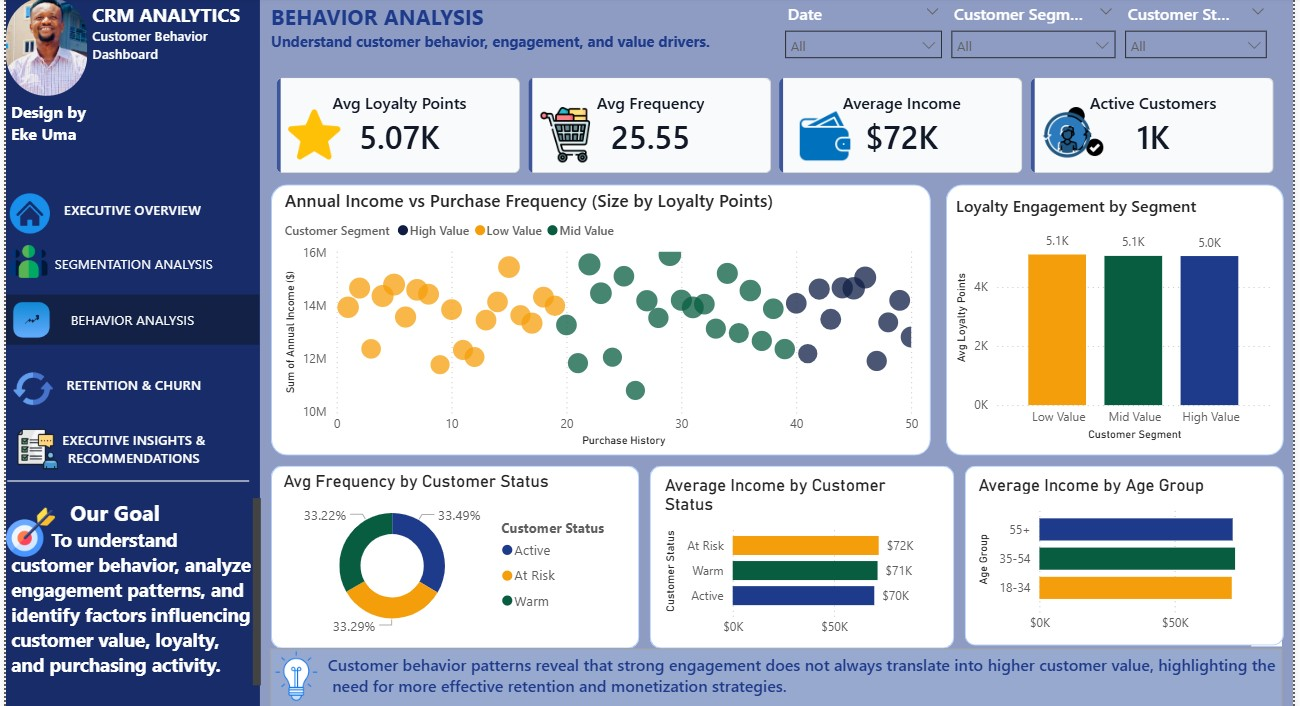

What the dashboard file says about the page in this screenshot:
{"tool":"powerbi","page":{"name":" BEHAVIOR ANALYSIS","canvas":[1280,720],"ordinal":2},"visuals":[{"type":"shape","box":[264,186.1,656.5,269.8],"z":0},{"type":"cardVisual","fields":{"Data":["Customer Intelligence & Segmentation Analytics - Customer Intelligence & Segment.Avg Loyalty Points","Customer Intelligence & Segmentation Analytics - Customer Intelligence & Segment.Avg Frequency","Customer Intelligence & Segmentation Analytics - Customer Intelligence & Segment.Average Income","Customer Intelligence & Segmentation Analytics - Customer Intelligence & Segment.Active Customers"]},"box":[252.5,63.5,1027.2,129.8],"z":1000},{"type":"shape","box":[0,0,252.5,719.9],"z":2000},{"type":"textbox","box":[258.3,0,457.4,63.5],"z":3000},{"type":"slicer","fields":{"Values":["Customer Intelligence & Segmentation Analytics - Customer Intelligence & Segment.Last Purchase Date"]},"box":[764.7,0,176,63.5],"z":4000},{"type":"slicer","fields":{"Values":["Customer Intelligence & Segmentation Analytics - Customer Intelligence & Segment.Customer Segment"]},"box":[930.6,0,183.2,63.5],"z":5000},{"type":"slicer","fields":{"Values":["Customer Intelligence & Segmentation Analytics - Customer Intelligence & Segment.Customer Status"]},"box":[1103.7,0,161.6,69.3],"z":6000},{"type":"textbox","box":[0,98.1,106.8,60.6],"z":7000},{"type":"image","box":[0,0,80.8,98.1],"z":8000},{"type":"textbox","box":[80.8,0,177.5,80.8],"z":9000},{"type":"textbox","box":[0,493.4,258.3,209.2],"z":10000},{"type":"shape","box":[934.9,186.1,336.2,269.8],"z":11000},{"type":"shape","box":[264,466,366.5,181.8],"z":12000},{"type":"textbox","box":[262.6,647.8,1007,72.1],"z":13000},{"type":"image","box":[264,647.8,50.5,54.8],"z":14000},{"type":"image","box":[0,505,49.1,54.8],"z":15000},{"type":"scatterChart","title":"Annual Income vs Purchase Frequency (Size by Loyalty Points)","fields":{"Series":["Customer Intelligence & Segmentation Analytics - Customer Intelligence & Segment.Customer Segment"],"Size":["Sum(Customer Intelligence & Segmentation Analytics - Customer Intelligence & Segment.Loyalty Points)"],"X":["Customer Intelligence & Segmentation Analytics - Customer Intelligence & Segment.Purchase History"],"Y":["Sum(Customer Intelligence & Segmentation Analytics - Customer Intelligence & Segment.Annual Income ($))"]},"box":[272.7,190.4,640.6,262.6],"z":16000},{"type":"clusteredColumnChart","title":"Loyalty Engagement by Segment","fields":{"Category":["Customer Intelligence & Segmentation Analytics - Customer Intelligence & Segment.Customer Segment"],"Y":["Customer Intelligence & Segmentation Analytics - Customer Intelligence & Segment.Avg Loyalty Points"]},"box":[940.7,196.2,324.6,249.6],"z":17000},{"type":"shape","box":[640.6,466,303,181.8],"z":18000},{"type":"donutChart","fields":{"Category":["Customer Intelligence & Segmentation Analytics - Customer Intelligence & Segment.Customer Status"],"Y":["Customer Intelligence & Segmentation Analytics - Customer Intelligence & Segment.Avg Frequency"]},"box":[271.2,471.8,337.6,170.2],"z":19000},{"type":"barChart","fields":{"Category":["Customer Intelligence & Segmentation Analytics - Customer Intelligence & Segment.Customer Status"],"Y":["Customer Intelligence & Segmentation Analytics - Customer Intelligence & Segment.Average Income"]},"box":[650.7,474.7,279.9,170.2],"z":20000},{"type":"image","box":[271.2,111.1,70.7,51.9],"z":21000},{"type":"image","box":[503.5,109.6,105.3,54.8],"z":22000},{"type":"image","box":[777.6,109.6,75,57.7],"z":23000},{"type":"image","box":[1037.3,109.6,66.4,49.1],"z":24000},{"type":"shape","box":[953.7,466,317.4,178.9],"z":25000},{"type":"barChart","fields":{"Category":["Customer Intelligence & Segmentation Analytics - Customer Intelligence & Segment.Age Group"],"Y":["Customer Intelligence & Segmentation Analytics - Customer Intelligence & Segment.Average Income"]},"box":[962.3,474.7,300.1,165.9],"z":26000},{"type":"pageNavigator","box":[0,295.8,252.5,50.5],"z":27000},{"type":"image","box":[1022.6,108.3,69.3,56.3],"z":28000},{"type":"pageNavigator","box":[0,186.1,252.5,50.5],"z":29000},{"type":"pageNavigator","box":[1.4,239.5,252.5,50.5],"z":30000},{"type":"pageNavigator","box":[1.4,360.7,252.5,50.5],"z":31000},{"type":"pageNavigator","box":[1.4,424.2,252.5,50.5],"z":32000},{"type":"shape","box":[1.4,474.7,240.9,13],"z":33000},{"type":"image","box":[4.3,186.1,40.4,57.7],"z":34000},{"type":"image","box":[4.3,295.8,41.8,50.5],"z":35000},{"type":"image","box":[7.2,295.8,39,50.5],"z":36000},{"type":"image","box":[4.3,236.6,37.5,53.4],"z":37000},{"type":"image","box":[7.2,367.9,39,43.3],"z":38000},{"type":"image","box":[10.1,418.4,43.3,63.5],"z":39000}]}

Visuals, with their boxes on the page's 1280x720 design canvas (x1, y1, x2, y2). These are canvas units, not pixel positions in the 1300x706 screenshot, which may show the page scaled, cropped or inside an application window:
shape: (left=264, top=186, right=920, bottom=456)
cardVisual - Customer Intelligence & Segmentation Analytics - Customer Intelligence & Segment.Avg Loyalty Points x Customer Intelligence & Segmentation Analytics - Customer Intelligence & Segment.Avg Frequency: (left=252, top=64, right=1280, bottom=193)
shape: (left=0, top=0, right=252, bottom=720)
textbox: (left=258, top=0, right=716, bottom=64)
slicer - Customer Intelligence & Segmentation Analytics - Customer Intelligence & Segment.Last Purchase Date: (left=765, top=0, right=941, bottom=64)
slicer - Customer Intelligence & Segmentation Analytics - Customer Intelligence & Segment.Customer Segment: (left=931, top=0, right=1114, bottom=64)
slicer - Customer Intelligence & Segmentation Analytics - Customer Intelligence & Segment.Customer Status: (left=1104, top=0, right=1265, bottom=69)
textbox: (left=0, top=98, right=107, bottom=159)
image: (left=0, top=0, right=81, bottom=98)
textbox: (left=81, top=0, right=258, bottom=81)
textbox: (left=0, top=493, right=258, bottom=703)
shape: (left=935, top=186, right=1271, bottom=456)
shape: (left=264, top=466, right=630, bottom=648)
textbox: (left=263, top=648, right=1270, bottom=720)
image: (left=264, top=648, right=314, bottom=703)
image: (left=0, top=505, right=49, bottom=560)
"Annual Income vs Purchase Frequency (Size by Loyalty Points)" scatterChart: (left=273, top=190, right=913, bottom=453)
"Loyalty Engagement by Segment" clusteredColumnChart: (left=941, top=196, right=1265, bottom=446)
shape: (left=641, top=466, right=944, bottom=648)
donutChart - Customer Intelligence & Segmentation Analytics - Customer Intelligence & Segment.Customer Status x Customer Intelligence & Segmentation Analytics - Customer Intelligence & Segment.Avg Frequency: (left=271, top=472, right=609, bottom=642)
barChart - Customer Intelligence & Segmentation Analytics - Customer Intelligence & Segment.Customer Status x Customer Intelligence & Segmentation Analytics - Customer Intelligence & Segment.Average Income: (left=651, top=475, right=931, bottom=645)
image: (left=271, top=111, right=342, bottom=163)
image: (left=504, top=110, right=609, bottom=164)
image: (left=778, top=110, right=853, bottom=167)
image: (left=1037, top=110, right=1104, bottom=159)
shape: (left=954, top=466, right=1271, bottom=645)
barChart - Customer Intelligence & Segmentation Analytics - Customer Intelligence & Segment.Age Group x Customer Intelligence & Segmentation Analytics - Customer Intelligence & Segment.Average Income: (left=962, top=475, right=1262, bottom=641)
pageNavigator: (left=0, top=296, right=252, bottom=346)
image: (left=1023, top=108, right=1092, bottom=165)
pageNavigator: (left=0, top=186, right=252, bottom=237)
pageNavigator: (left=1, top=240, right=254, bottom=290)
pageNavigator: (left=1, top=361, right=254, bottom=411)
pageNavigator: (left=1, top=424, right=254, bottom=475)
shape: (left=1, top=475, right=242, bottom=488)
image: (left=4, top=186, right=45, bottom=244)
image: (left=4, top=296, right=46, bottom=346)
image: (left=7, top=296, right=46, bottom=346)
image: (left=4, top=237, right=42, bottom=290)
image: (left=7, top=368, right=46, bottom=411)
image: (left=10, top=418, right=53, bottom=482)
